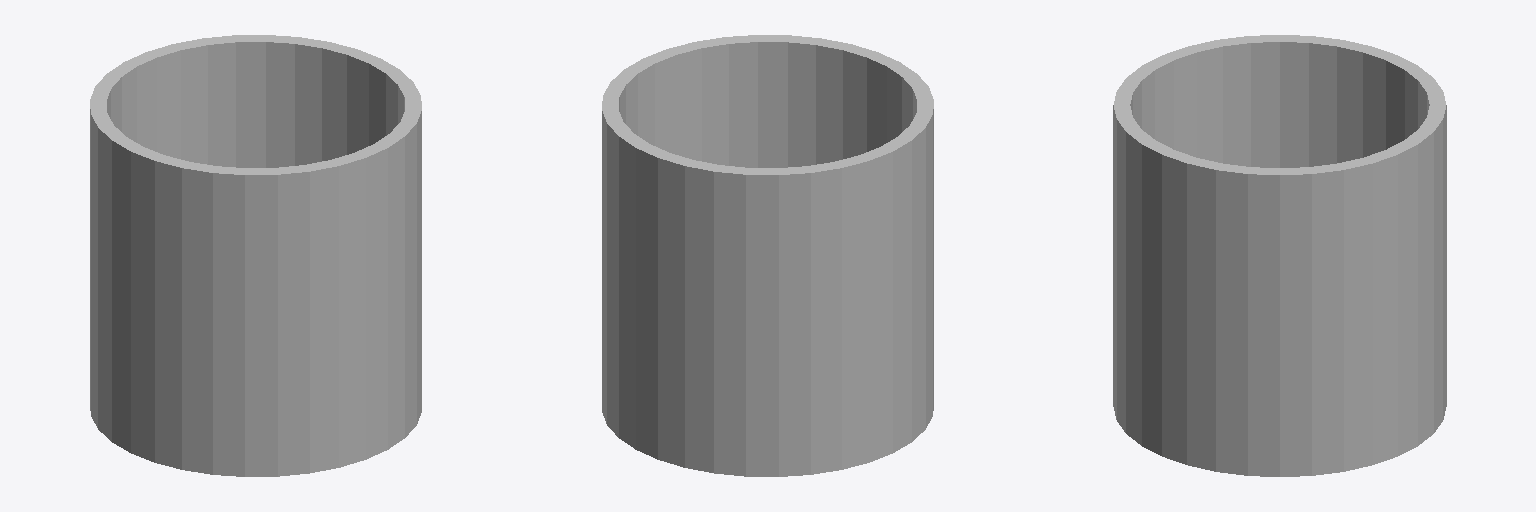
Rendered from NormalPipe.obj.
3 renders of one model, left to right at view 1: azimuth 30°, elevation 25°; view 2: azimuth 150°, elevation 25°; view 3: azimuth 270°, elevation 25°, orthographic.
Visible parts, largest first — view 1: Cylinder; view 2: Cylinder; view 3: Cylinder.
Boxes of the visible parts, <box> form: Cylinder: <box>90,35,421,476</box>; Cylinder: <box>602,35,933,476</box>; Cylinder: <box>1113,35,1446,476</box>.
Size of the model in its own units: 2 by 2 by 2.